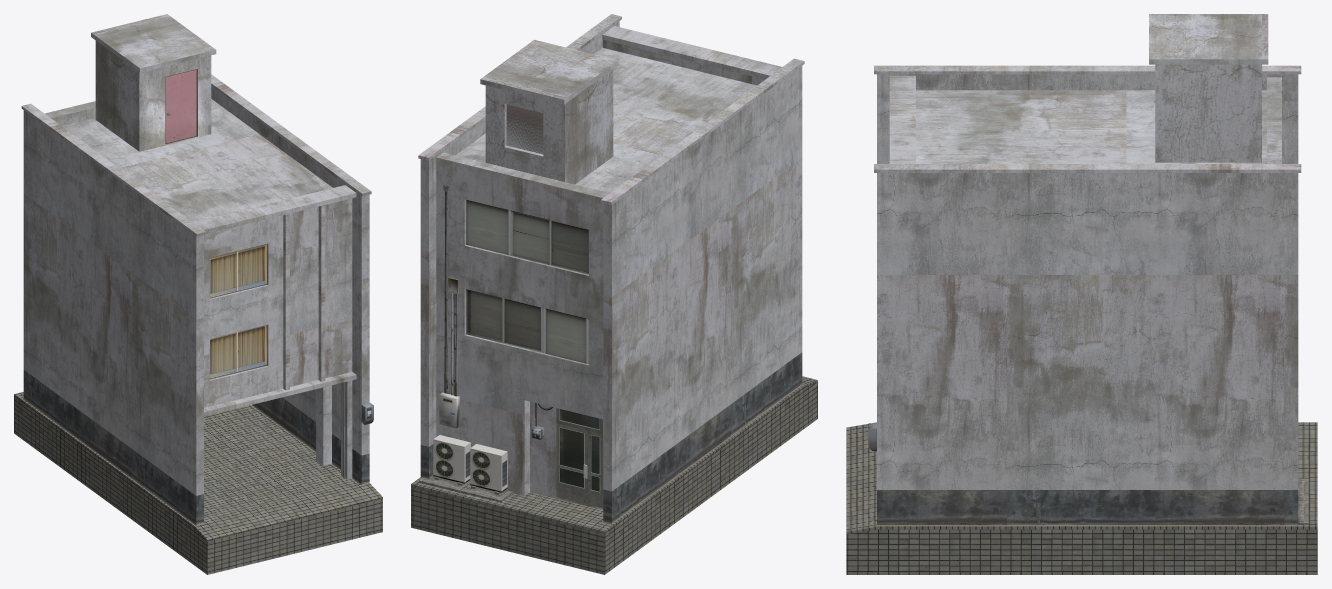
The model's file is mallbil_s_b2.fbx.
3 renders of one model, left to right at view 1: azimuth 30°, elevation 25°; view 2: azimuth 150°, elevation 25°; view 3: azimuth 270°, elevation 25°, orthographic. The views are drawn at different scales.
Parts seen in each view (by area): view 1: mallbil_s_b2; view 2: mallbil_s_b2; view 3: mallbil_s_b2.
Part boxes in pixels (x1,y1,x2,y2): mallbil_s_b2: (14, 14, 382, 574); mallbil_s_b2: (411, 14, 817, 574); mallbil_s_b2: (846, 14, 1317, 574).
Size of the model in its own units: 596 by 1135 by 1303.
6 materials, 6 textured.
